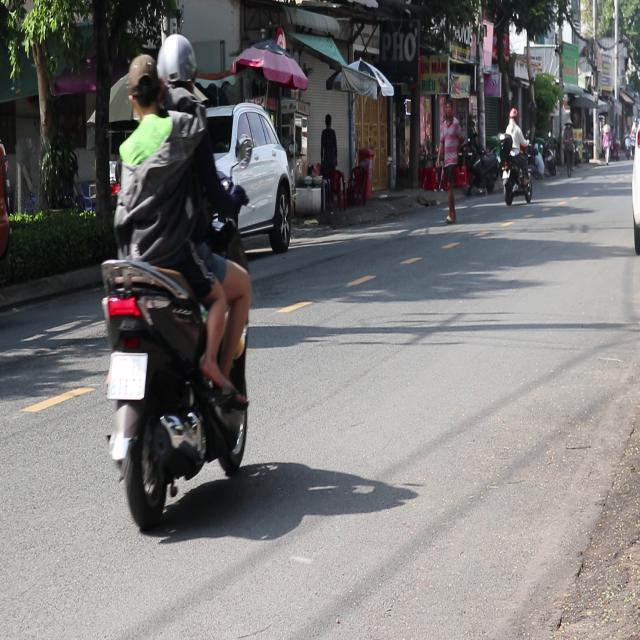helmet: (155, 31, 199, 104)
licenseplate: (95, 29, 257, 534)
motorcyclist: (126, 52, 160, 122)
nohelmet: (108, 352, 146, 398)
